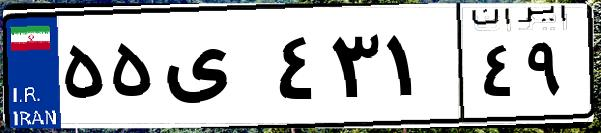1: (385, 28, 445, 110)
3: (330, 28, 385, 110)
4: (270, 28, 330, 110), (475, 38, 525, 113)
5: (57, 26, 110, 100), (110, 28, 158, 98)
9: (525, 38, 570, 115)
ی: (158, 20, 270, 120)
